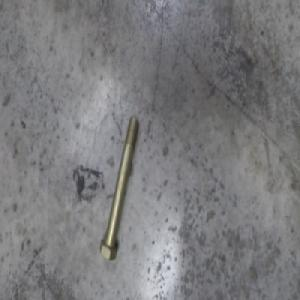Bolt: (97, 107, 140, 247)
